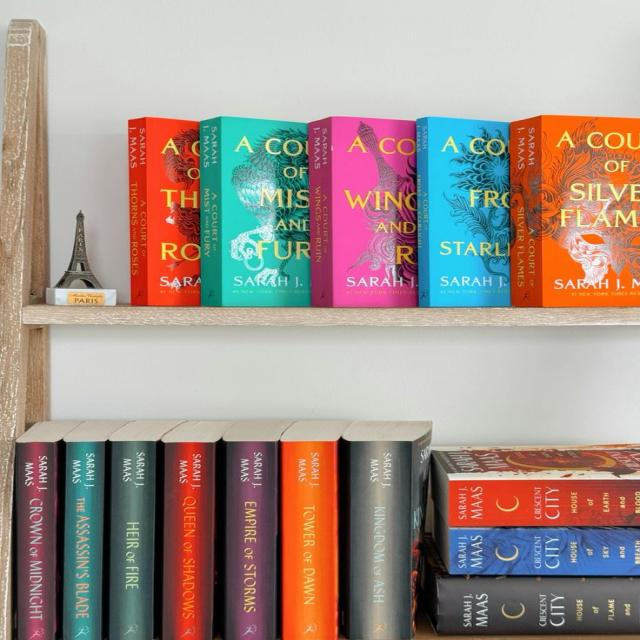book: (346, 439, 414, 640), (280, 439, 347, 640), (161, 441, 216, 640), (440, 578, 640, 632), (107, 441, 161, 640), (225, 439, 274, 640), (453, 478, 640, 526), (448, 527, 640, 572), (15, 441, 58, 640), (63, 441, 105, 640)
